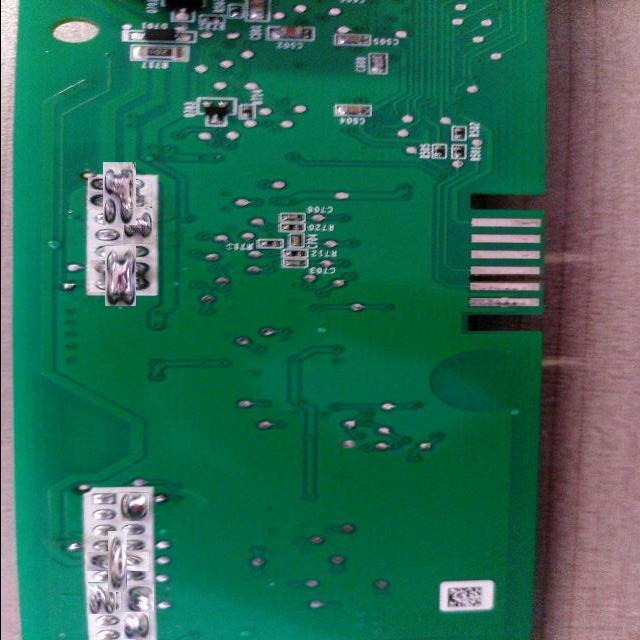Short_circuit: (96, 169, 144, 218), (97, 253, 143, 300), (98, 541, 138, 582), (121, 210, 154, 243), (86, 583, 118, 614), (120, 584, 154, 612), (120, 491, 150, 521), (122, 613, 150, 640)
